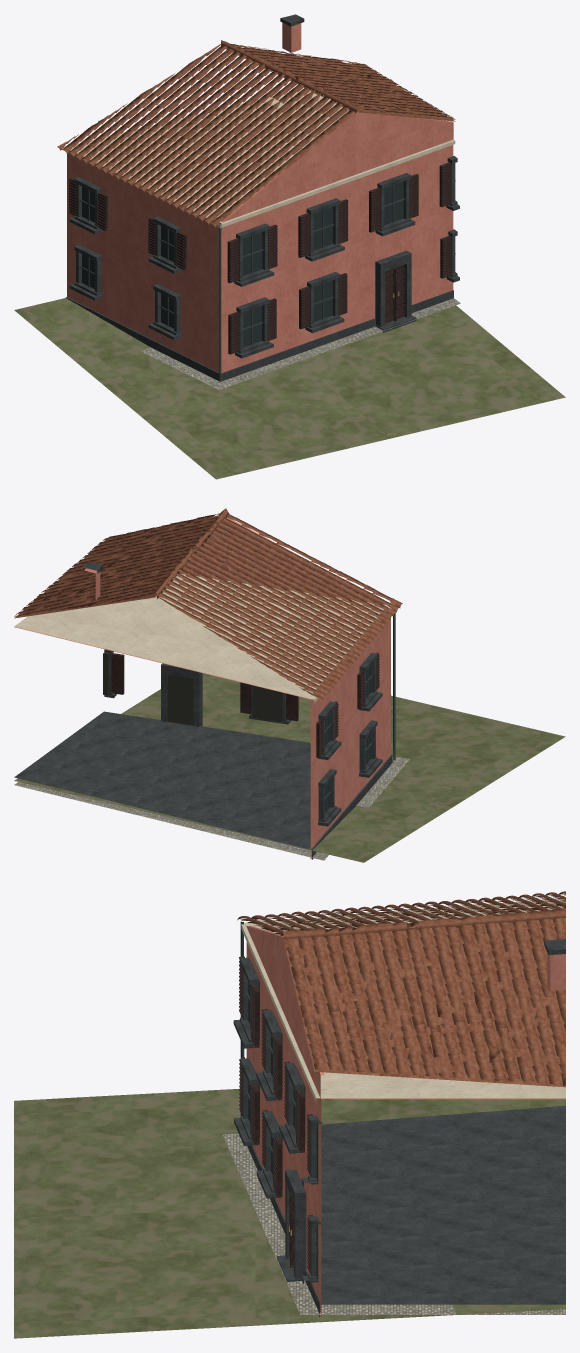
The picture shows the model from 3 angles, top to bottom: view 1: azimuth 30°, elevation 25°; view 2: azimuth 150°, elevation 25°; view 3: azimuth 270°, elevation 25°; orthographic projection. The views are drawn at different scales.
Bounding box in the file's own units: 16 × 11 × 16.
Materials: 11 (7 with a texture image).
